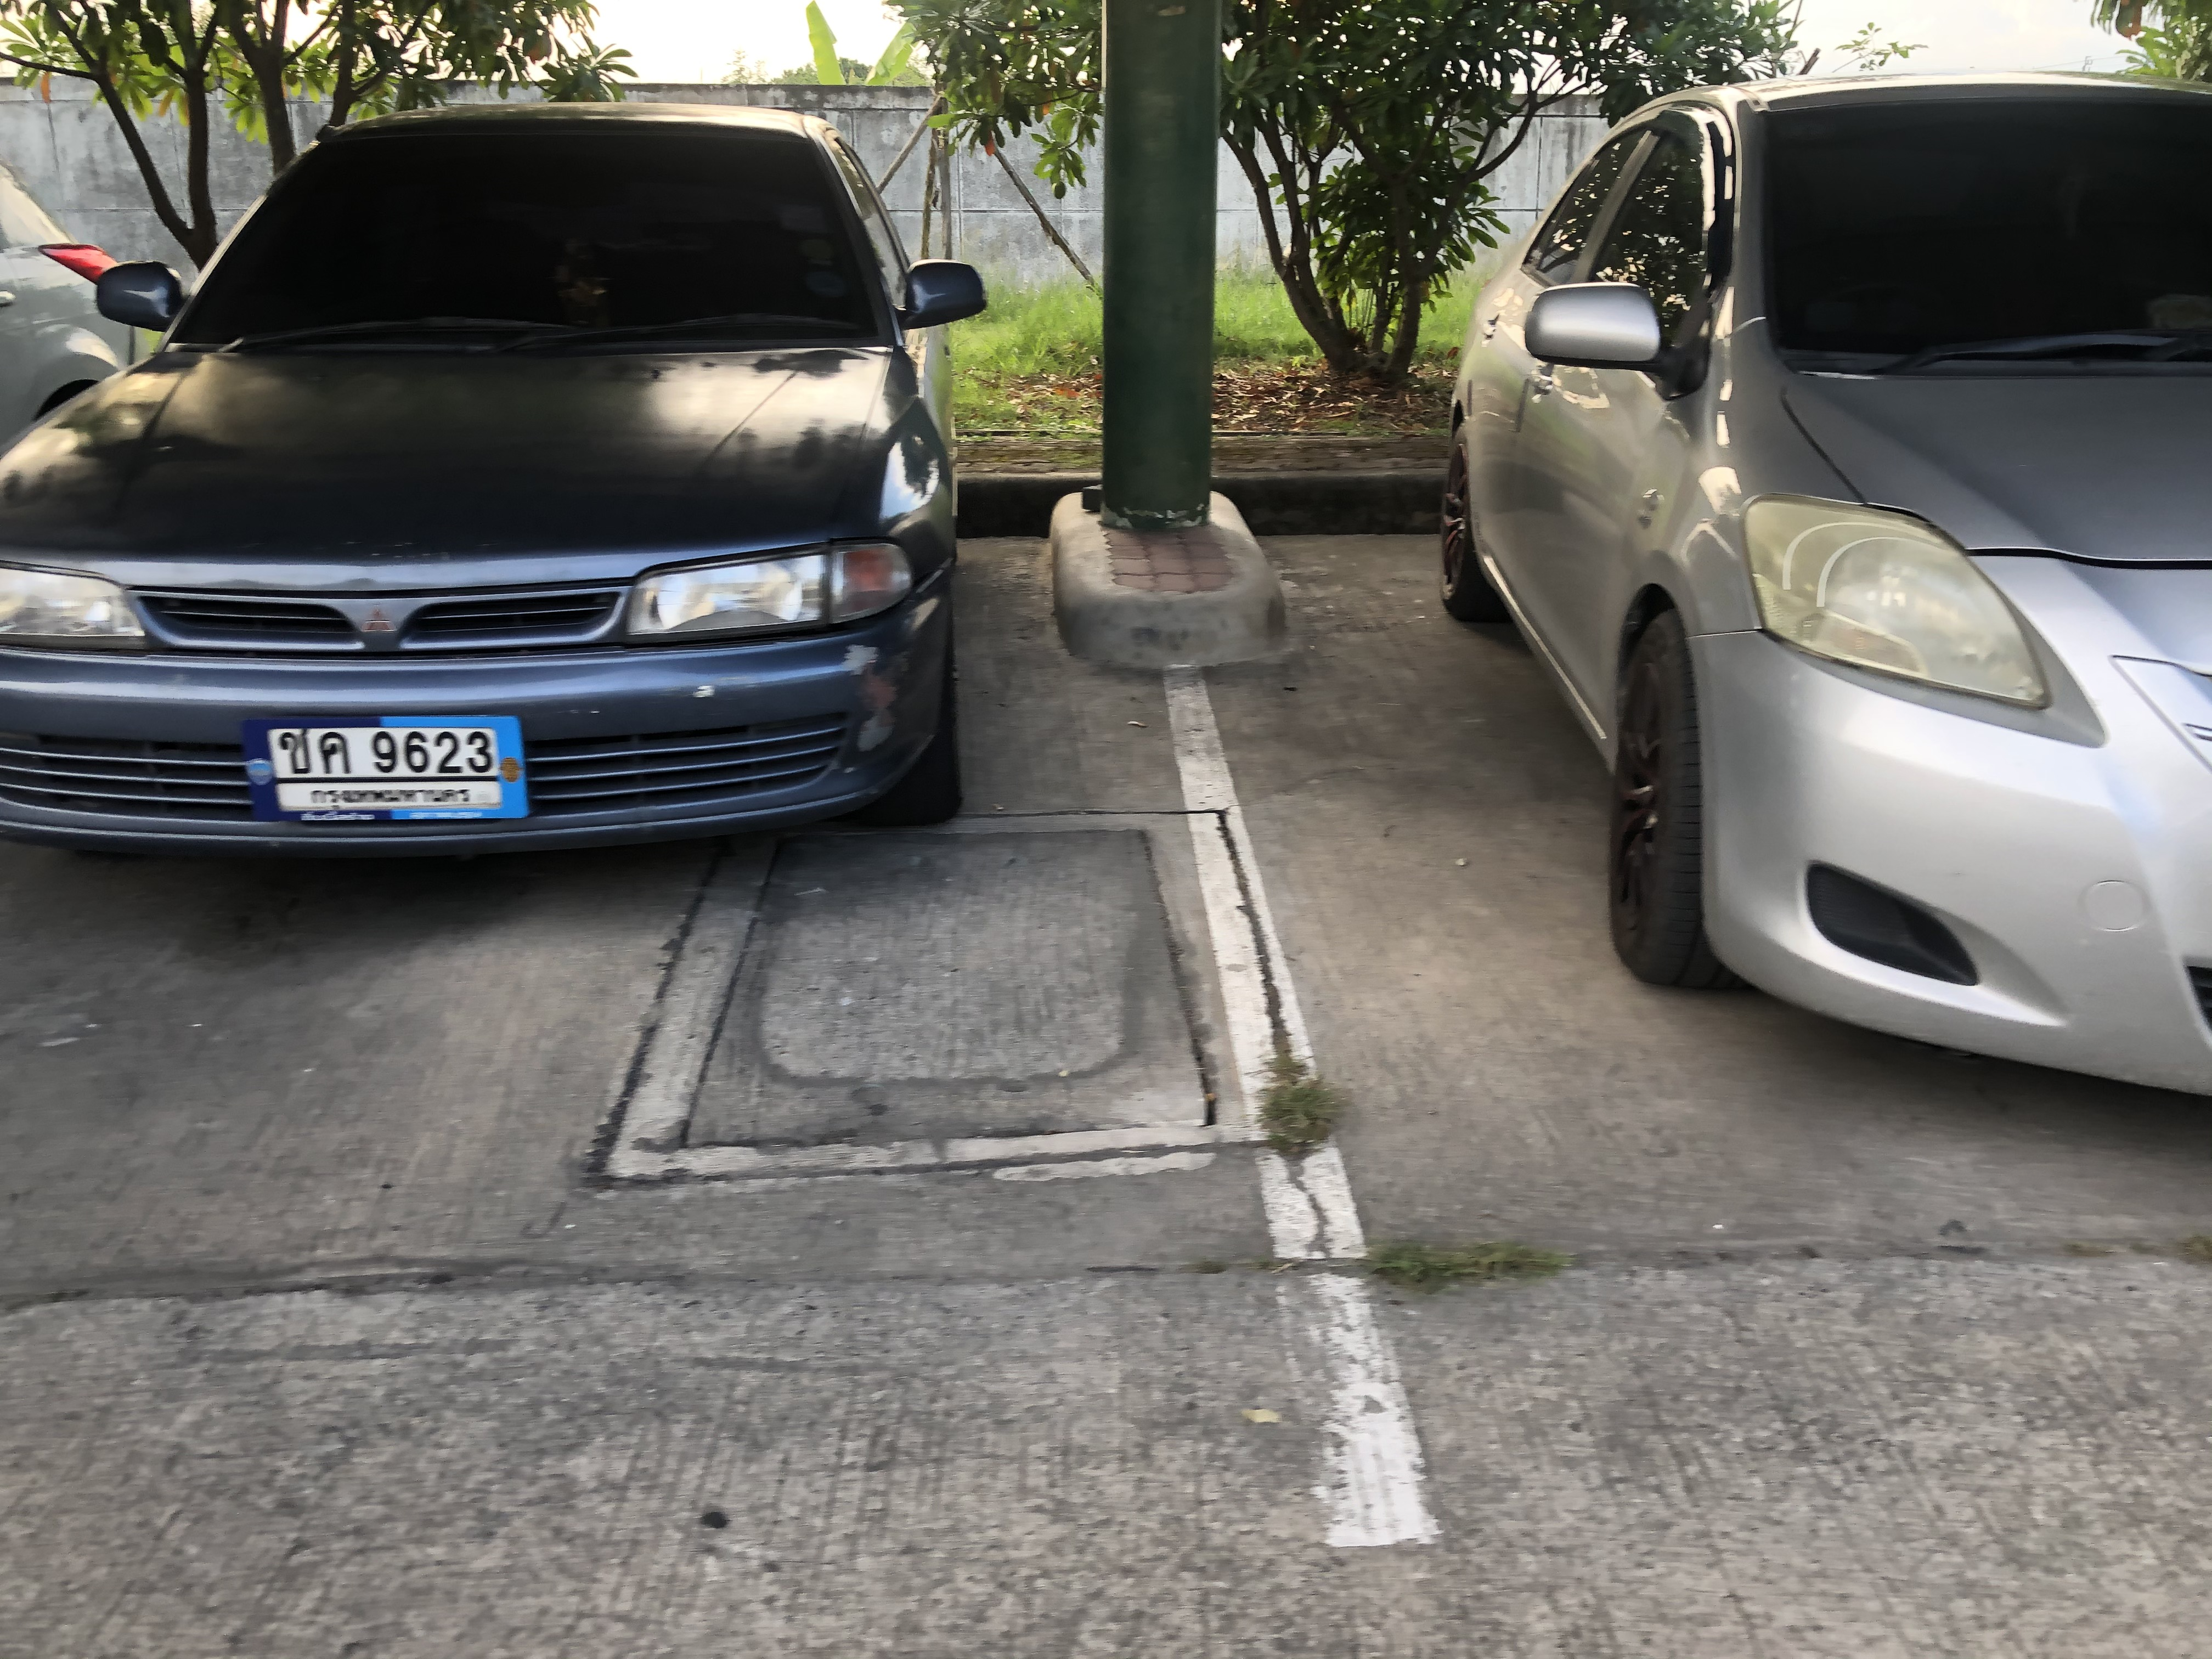in: (270, 725, 505, 817)
out: (237, 714, 529, 830)
